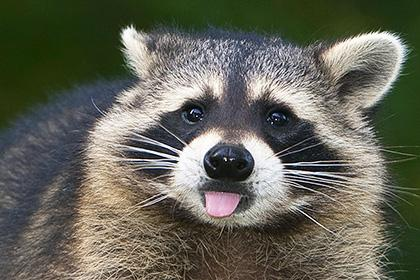raccoon: (1, 22, 420, 280)
